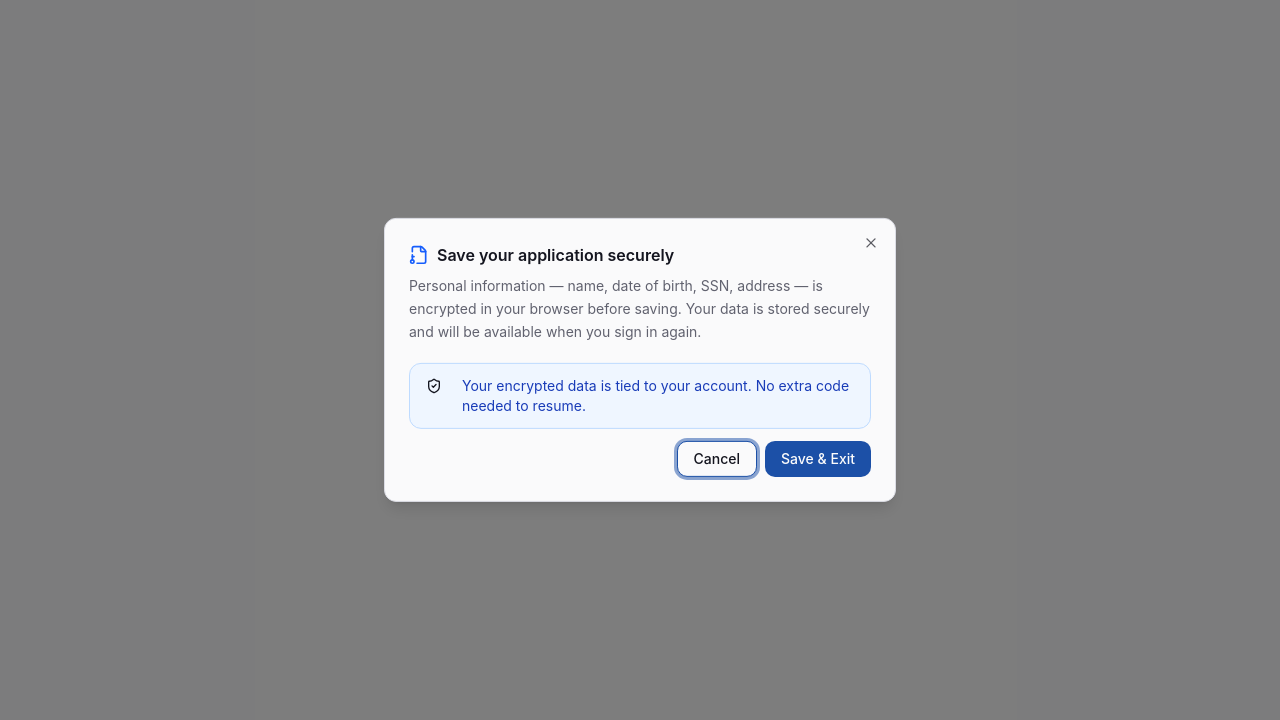
Scenario: PhiSaveExitDialog › shows no warning alert after a plain boolean true
The width and height of the screenshot is (1280, 720).
Click the button "Save & Exit" at (818, 459), box [765,441,871,477]
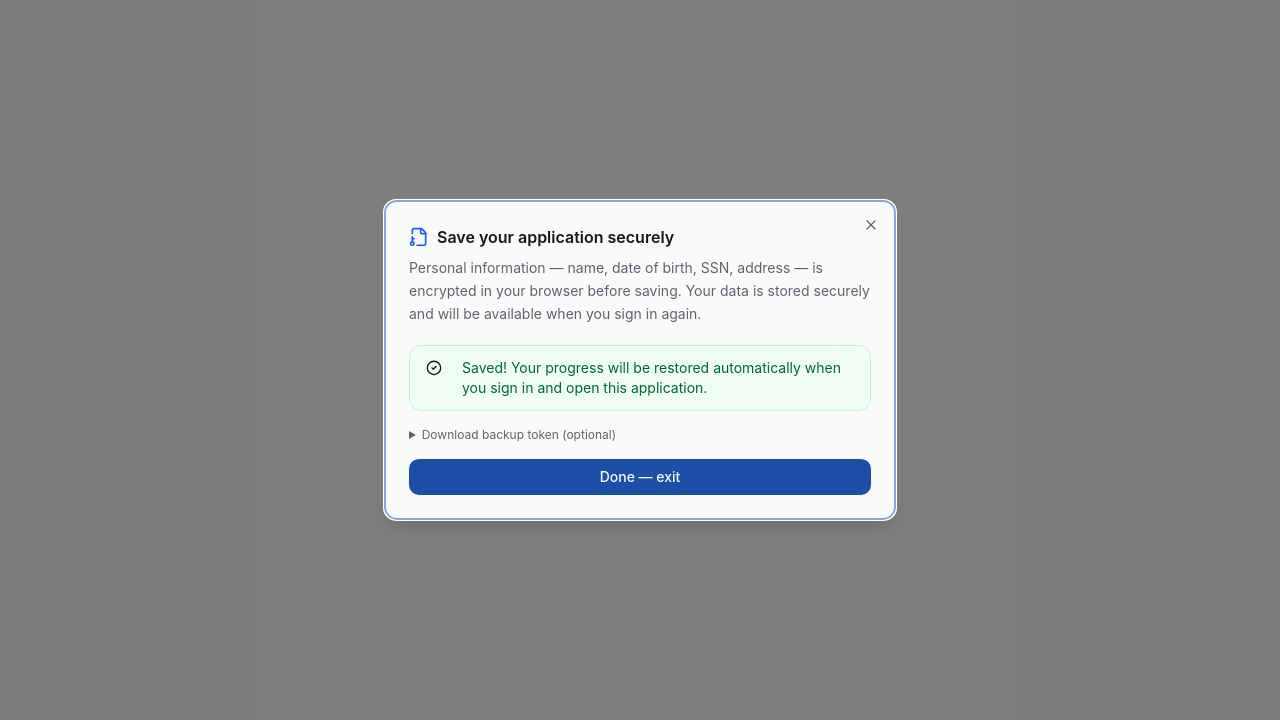
Check: the button "Done — exit" is shown, box [409,459,871,495]
Check: the text "Saved! Your progress will be restored automatically when you sign in and open this application." is shown, box [462,359,841,396]
